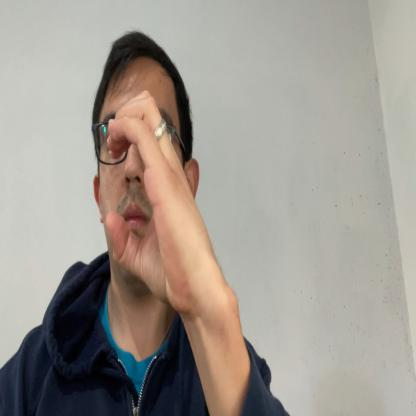C: (105, 88, 210, 308)
